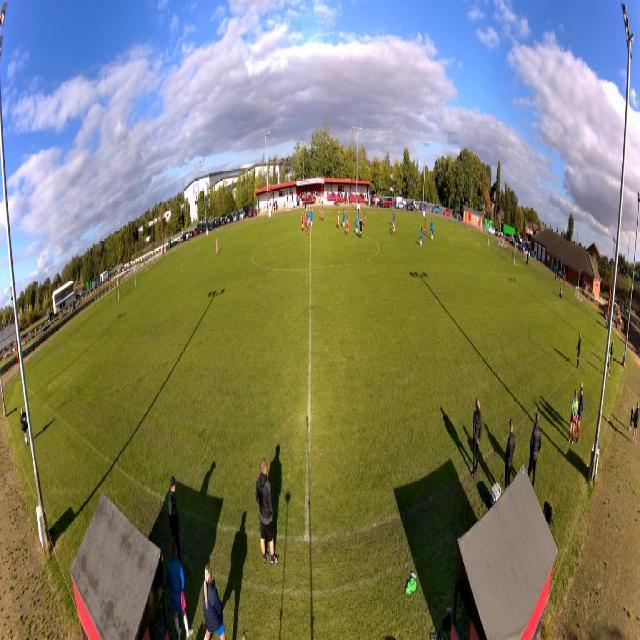ball: (479, 243, 480, 247)
player: (359, 216, 364, 240), (305, 213, 309, 237), (310, 208, 314, 230), (301, 211, 305, 233), (346, 216, 350, 237), (337, 210, 341, 230), (391, 217, 395, 236), (215, 237, 219, 256), (318, 204, 322, 221), (355, 214, 358, 236), (321, 206, 325, 222), (420, 228, 423, 249), (431, 220, 434, 241), (423, 226, 426, 245), (430, 219, 433, 238), (364, 209, 367, 228), (357, 208, 360, 227), (343, 209, 346, 228), (308, 207, 311, 225), (487, 237, 490, 251), (393, 214, 395, 233), (304, 209, 306, 228), (392, 210, 395, 221), (425, 218, 427, 234)
